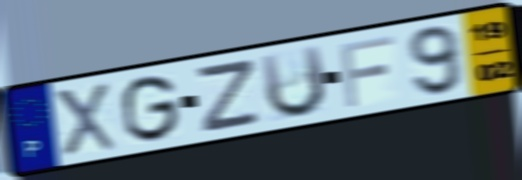9: (405, 23, 463, 97)
F: (337, 32, 397, 110)
G: (120, 72, 182, 145)
U: (257, 42, 329, 122)
X: (51, 80, 119, 159)
Z: (196, 55, 262, 136)
